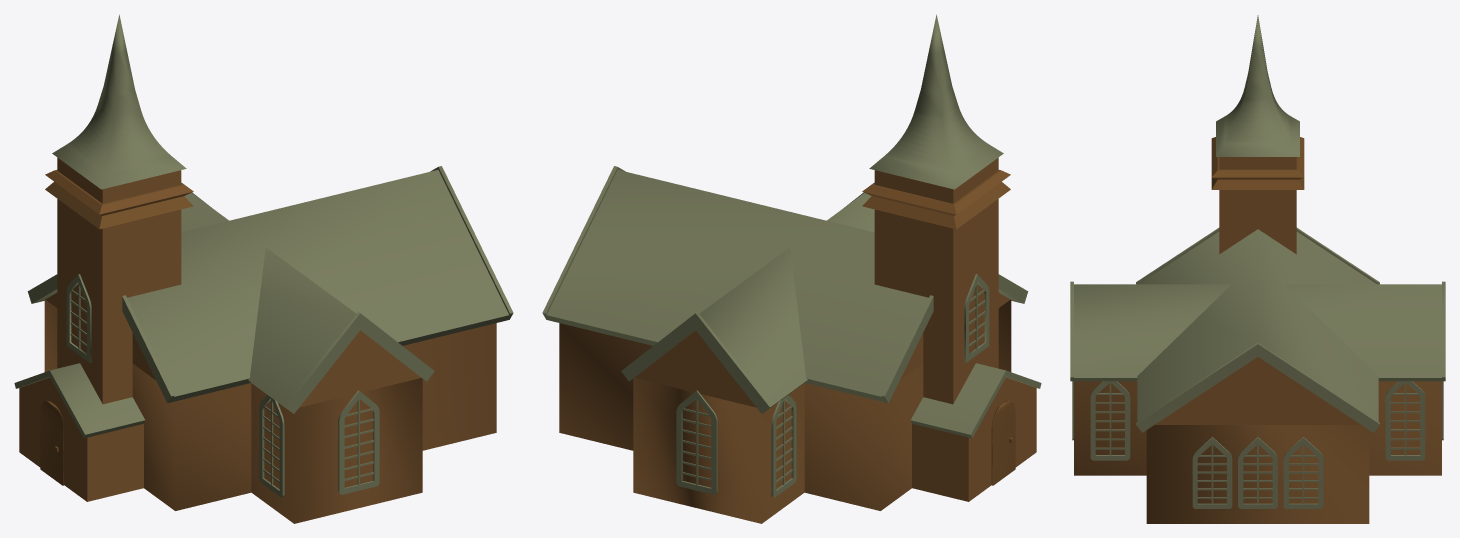
File: Churches(4).glb
3 views of the same model, side by side, from view 1: azimuth 30°, elevation 25°; view 2: azimuth 150°, elevation 25°; view 3: azimuth 270°, elevation 25° (orthographic). The views are drawn at different scales.
Parts seen in each view (by area): view 1: Root; view 2: Root; view 3: Root.
Part boxes in pixels (x1,y1,x2,y2): Root: (14,14,513,523); Root: (542,14,1041,523); Root: (1070,15,1445,523).
Bounding box in the file's own units: 11.15 × 12.16 × 10.86.
